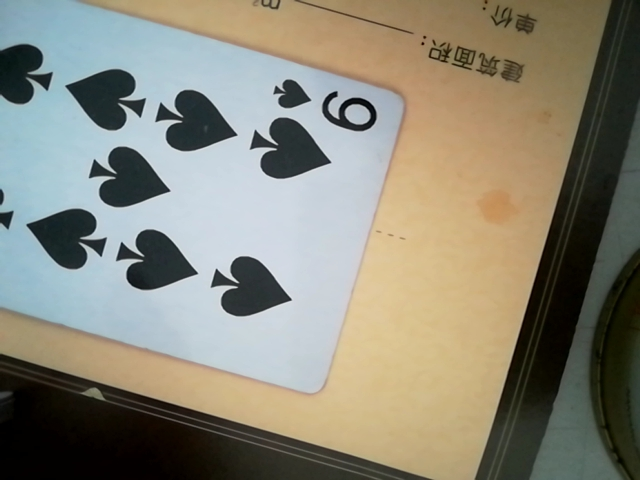ht 9: (3, 0, 406, 395)
